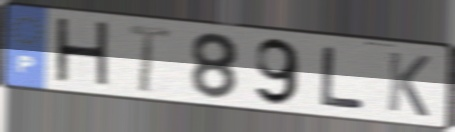8: (187, 30, 240, 101)
9: (252, 36, 304, 107)
H: (52, 15, 113, 93)
K: (384, 48, 433, 120)
L: (318, 44, 369, 111)
T: (126, 22, 174, 95)
